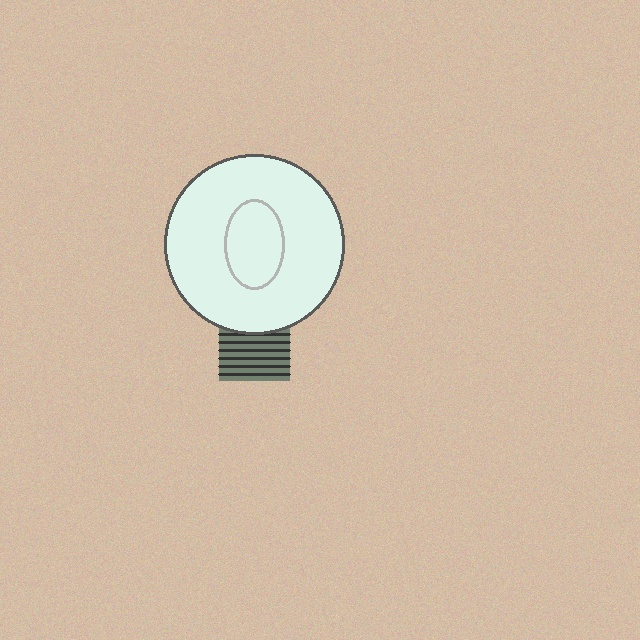bulb: (160, 150, 348, 385)
